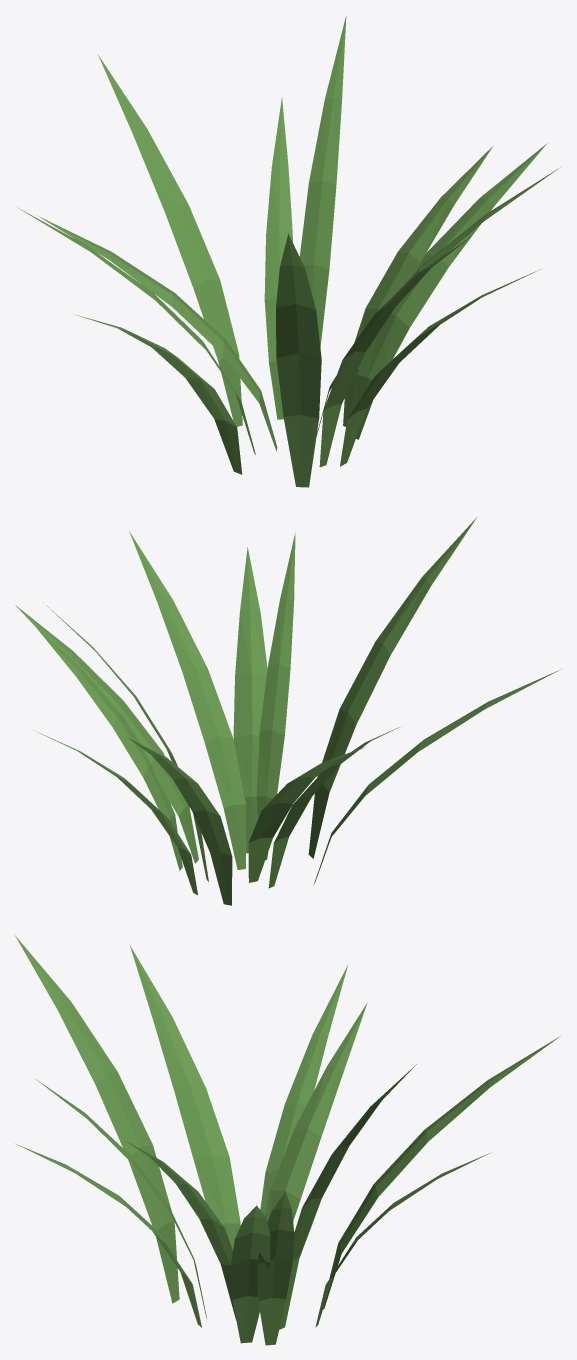
The model's file is grass_tuft_a.glb.
3 views of the same model, one above another, from view 1: azimuth 30°, elevation 25°; view 2: azimuth 150°, elevation 25°; view 3: azimuth 270°, elevation 25° (orthographic). The views are drawn at different scales.
Parts seen in each view (by area): view 1: grass_tuft_a; view 2: grass_tuft_a; view 3: grass_tuft_a.
Part boxes in pixels (x1=…): grass_tuft_a: x1=17, y1=16, x2=560, y2=487; grass_tuft_a: x1=15, y1=517, x2=560, y2=905; grass_tuft_a: x1=15, y1=935, x2=561, y2=1345.
Bounding box in the file's own units: 0.4008 × 0.24 × 0.3717.
